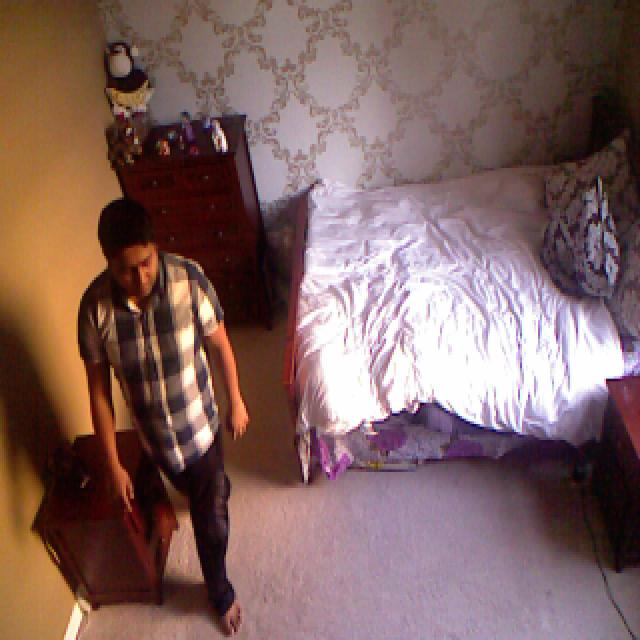standing: (78, 200, 250, 637)
